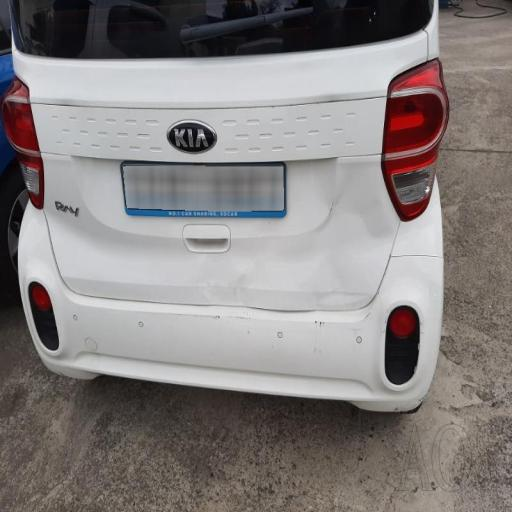dent: (93, 87, 423, 382)
